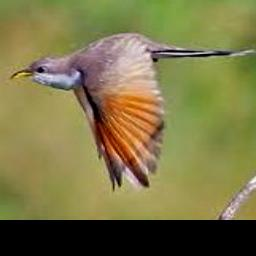Cuckoo: (10, 32, 256, 192)
